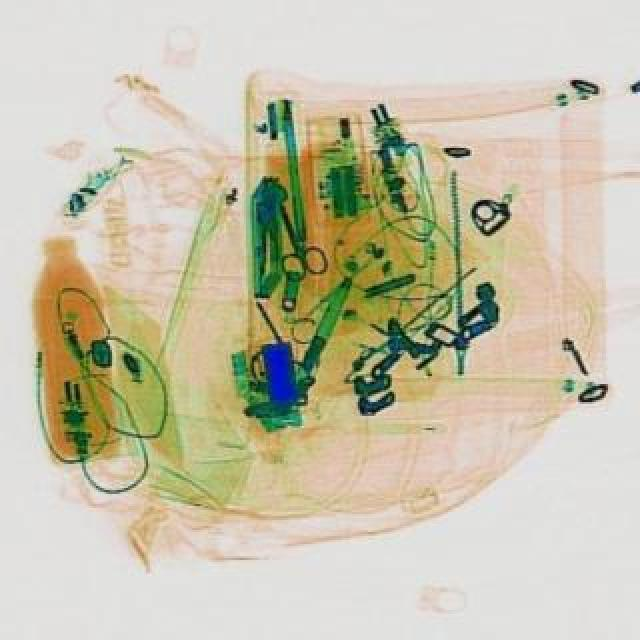pliers: (260, 200, 332, 288)
